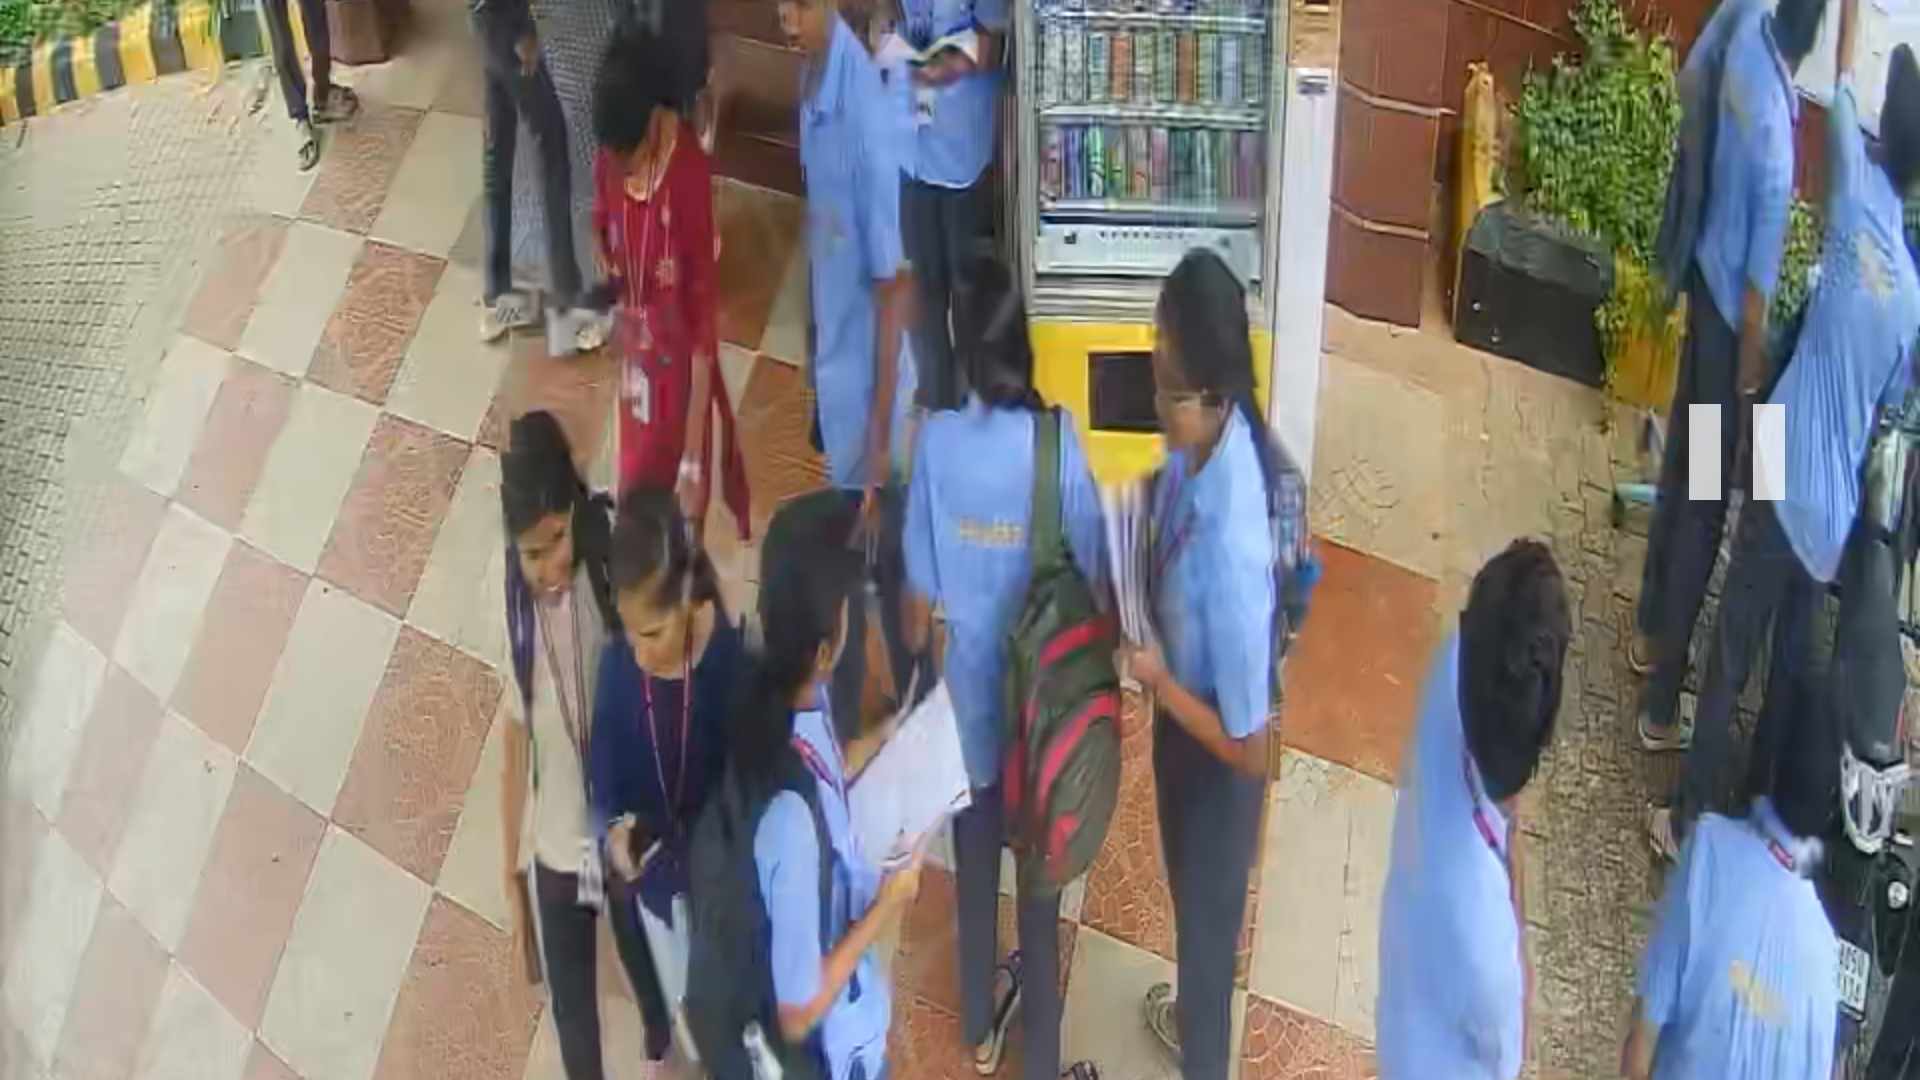not intruder: (485, 425, 666, 1080), (582, 489, 736, 1077), (587, 32, 756, 549)
